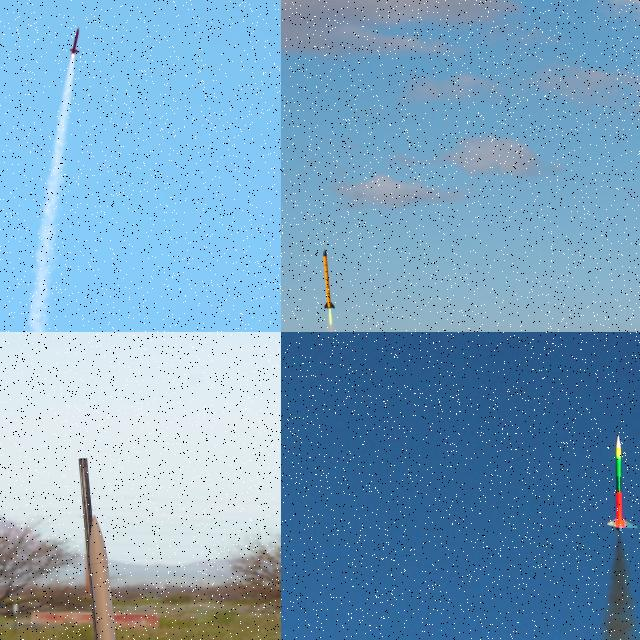Rocket: (79, 514, 138, 640), (606, 434, 639, 532), (323, 248, 335, 310), (69, 27, 80, 54)
